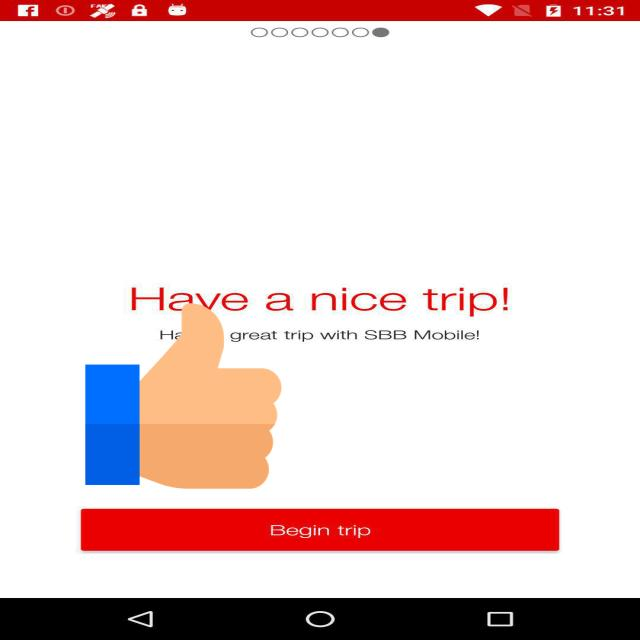privacy zuckering: (86, 299, 282, 493)
